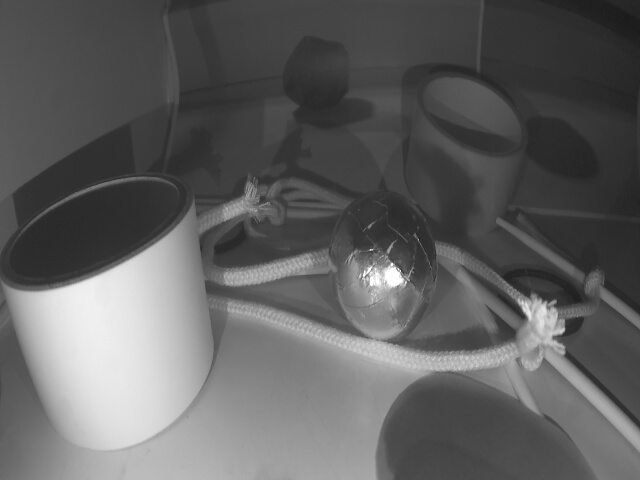Live: (333, 187, 438, 345)
